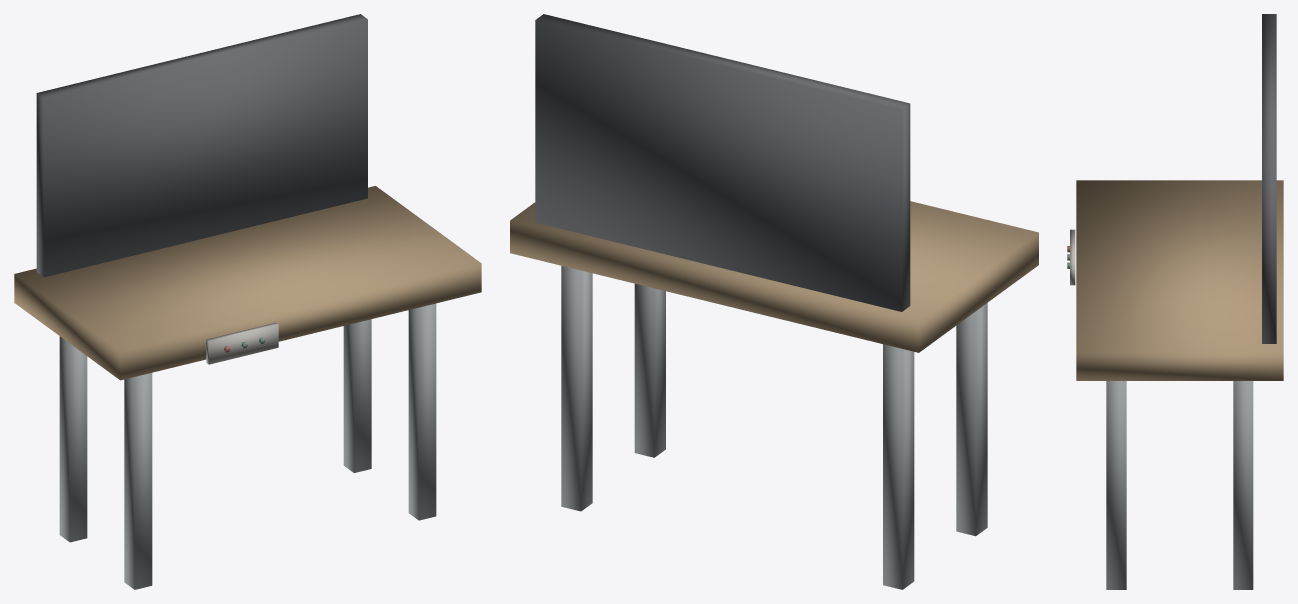
File: basement_workbench__compact.glb
The picture shows the model from 3 angles, left to right: view 1: azimuth 30°, elevation 25°; view 2: azimuth 150°, elevation 25°; view 3: azimuth 270°, elevation 25°; orthographic projection. The views are drawn at different scales.
Visible parts, largest first — view 1: world; view 2: world; view 3: world.
Boxes of the visible parts, bbox=[...] form: world: bbox=[14, 14, 481, 589]; world: bbox=[510, 14, 1038, 589]; world: bbox=[1067, 14, 1283, 589].
Bounding box in the file's own units: 1.22 × 1.4 × 0.6459.
